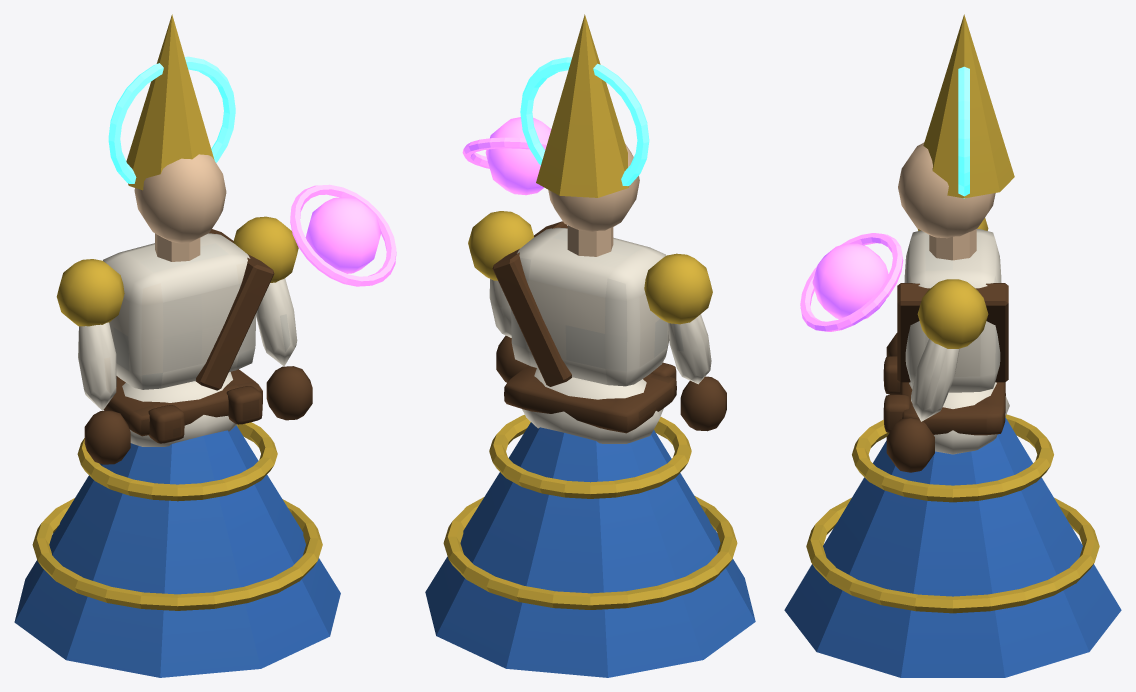
File: druide.glb
The picture shows the model from 3 angles, left to right: view 1: azimuth 30°, elevation 25°; view 2: azimuth 150°, elevation 25°; view 3: azimuth 270°, elevation 25°; orthographic projection.
Parts seen in each view (by area): view 1: druide, arm_l, arm_r; view 2: druide, arm_l, arm_r; view 3: druide, arm_r.
Part boxes in pixels (left/top/right/bottom): druide: left=14, top=14, right=396, bottom=677; arm_l: left=56, top=259, right=130, bottom=464; arm_r: left=233, top=216, right=312, bottom=420; druide: left=425, top=14, right=755, bottom=677; arm_l: left=644, top=253, right=726, bottom=431; arm_r: left=468, top=211, right=533, bottom=382; druide: left=784, top=14, right=1121, bottom=677; arm_r: left=886, top=279, right=988, bottom=472.
Size of the model in its own units: 0.6316 by 1.17 by 0.6.
